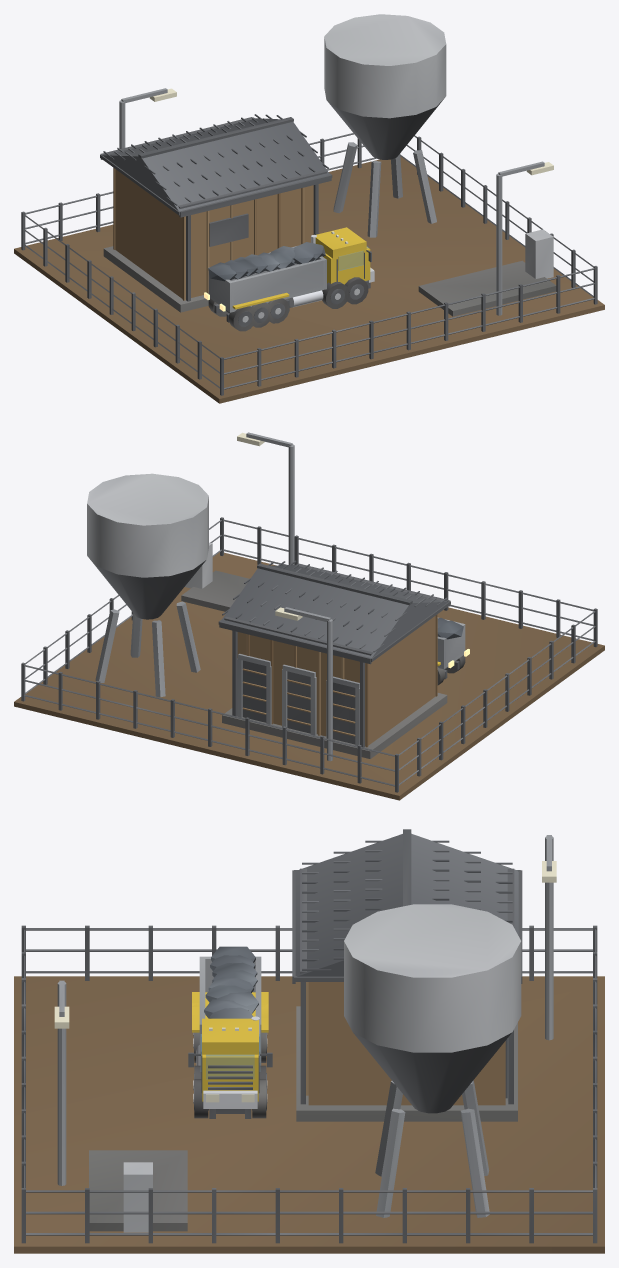
The model's file is Haul_P1.fbx.
3 renders of one model, top to bottom at view 1: azimuth 30°, elevation 25°; view 2: azimuth 150°, elevation 25°; view 3: azimuth 270°, elevation 25°, orthographic. The views are drawn at different scales.
Parts seen in each view (by area): view 1: Haul.Yard, Haul.Workshop, Haul.Hopper, Haul.Parked0, Haul.Fence, Haul.Weighbridge, Haul.Lamp0, Haul.Lamp1; view 2: Haul.Yard, Haul.Workshop, Haul.Hopper, Haul.Fence, Haul.Weighbridge, Haul.Parked0, Haul.Lamp1, Haul.Lamp0; view 3: Haul.Yard, Haul.Hopper, Haul.Workshop, Haul.Fence, Haul.Parked0, Haul.Weighbridge, Haul.Lamp0, Haul.Lamp1.
Part boxes in pixels (x1,y1,x2,y2): Haul.Yard: [14, 156, 604, 403]; Haul.Workshop: [100, 114, 332, 312]; Haul.Hopper: [324, 14, 446, 237]; Haul.Parked0: [204, 227, 374, 331]; Haul.Fence: [21, 133, 597, 395]; Haul.Weighbridge: [418, 229, 556, 316]; Haul.Lamp0: [496, 161, 553, 315]; Haul.Lamp1: [119, 88, 176, 148]; Haul.Yard: [14, 552, 604, 800]; Haul.Workshop: [218, 560, 450, 758]; Haul.Hopper: [87, 473, 208, 697]; Haul.Fence: [21, 517, 597, 792]; Haul.Weighbridge: [181, 542, 249, 611]; Haul.Parked0: [437, 617, 469, 685]; Haul.Lamp1: [275, 607, 332, 761]; Haul.Lamp0: [237, 432, 294, 564]; Haul.Yard: [14, 976, 604, 1253]; Haul.Hopper: [344, 904, 521, 1217]; Haul.Workshop: [292, 829, 522, 1121]; Haul.Fence: [21, 925, 597, 1243]; Haul.Parked0: [188, 946, 272, 1118]; Haul.Weighbridge: [89, 1150, 187, 1232]; Haul.Lamp0: [54, 980, 69, 1185]; Haul.Lamp1: [542, 835, 556, 1040].
Bounding box in the file's own units: 2600 × 1167 × 2400.
